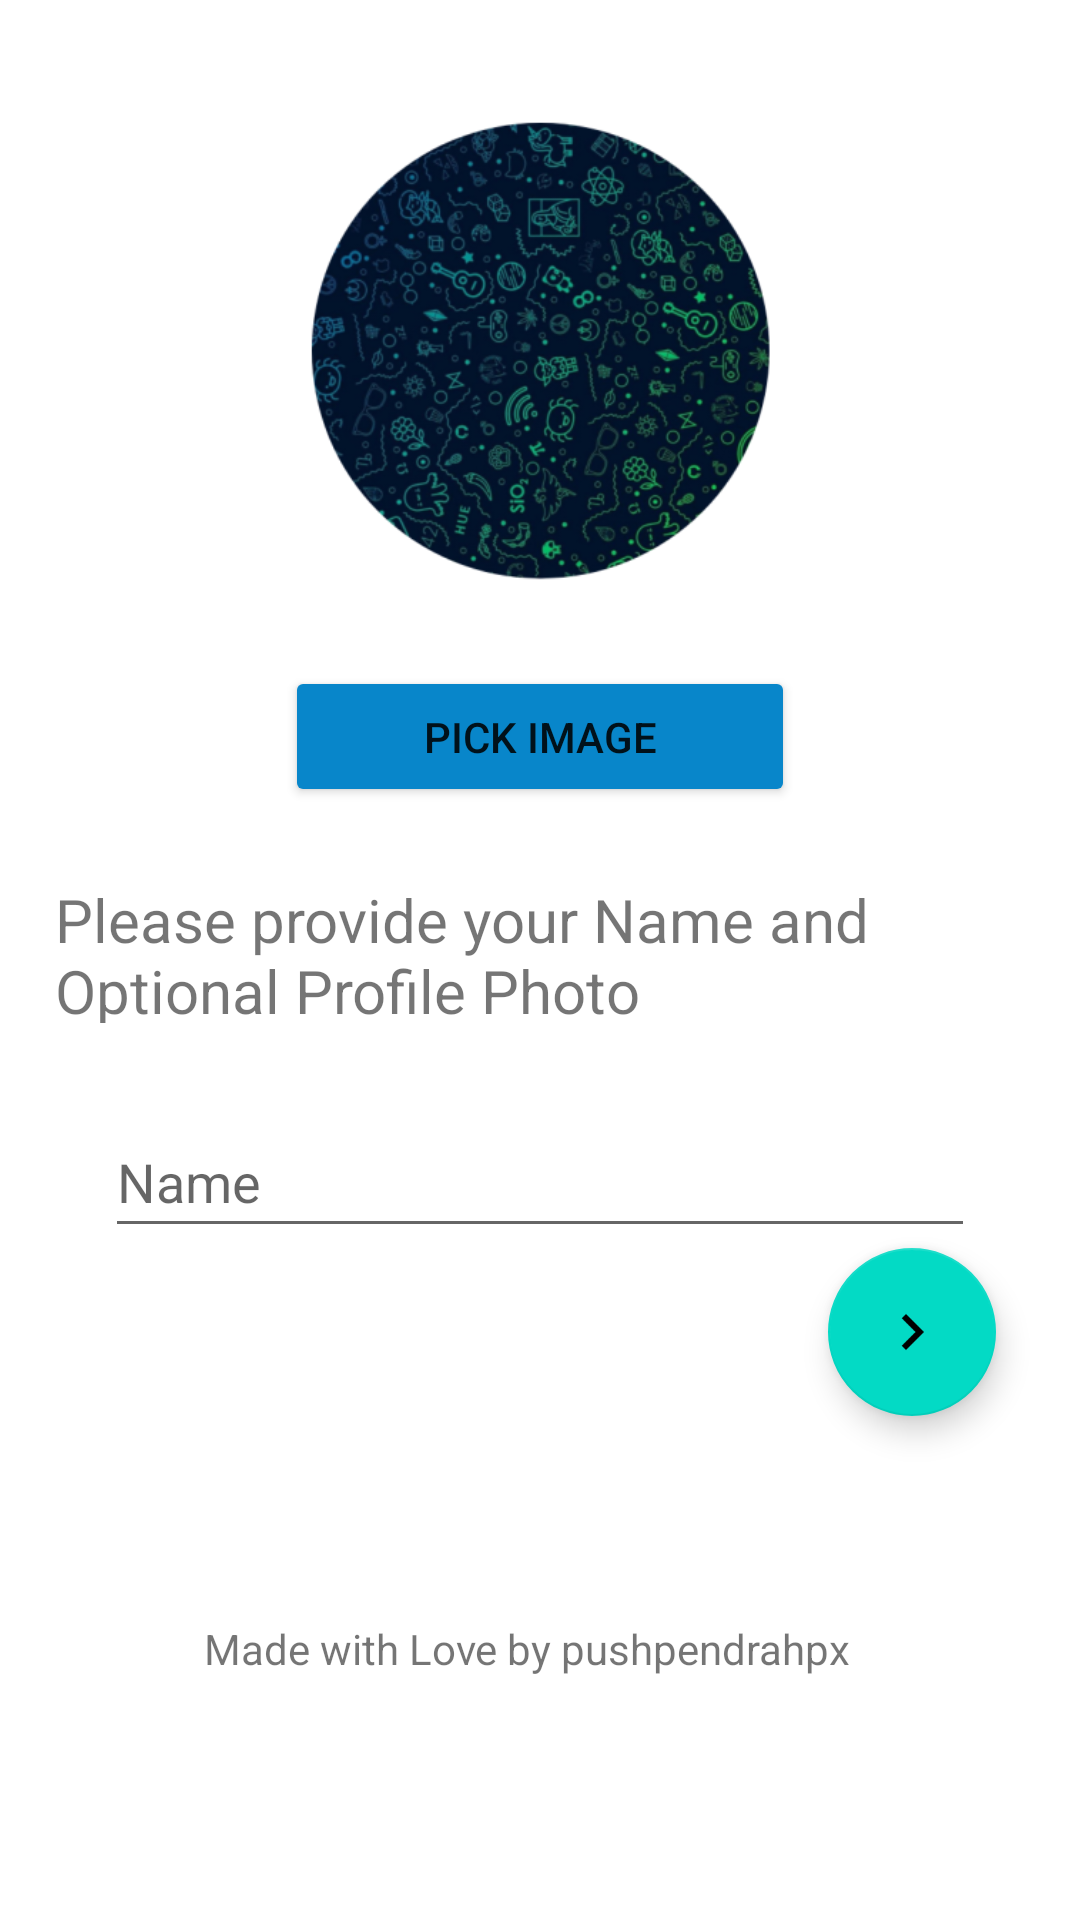

Where to tap for icons on this 1080 x 1920 app screen, as (x,y):
navigate next: (912,1332)
